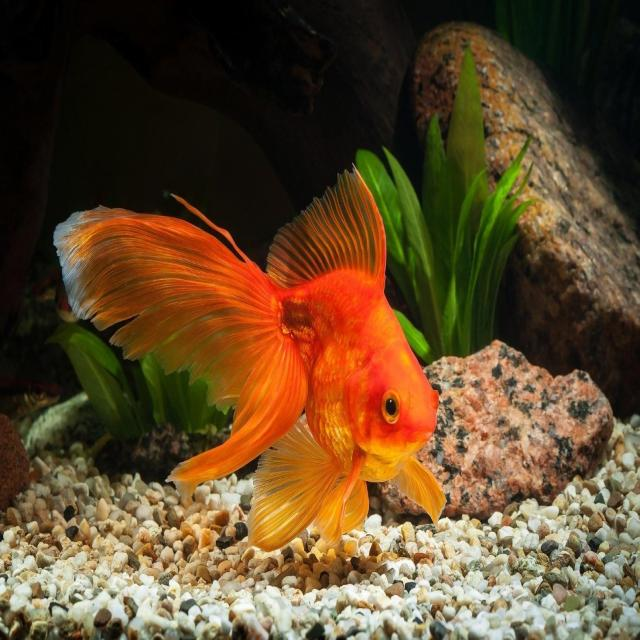GoldFish: (58, 180, 450, 552)
